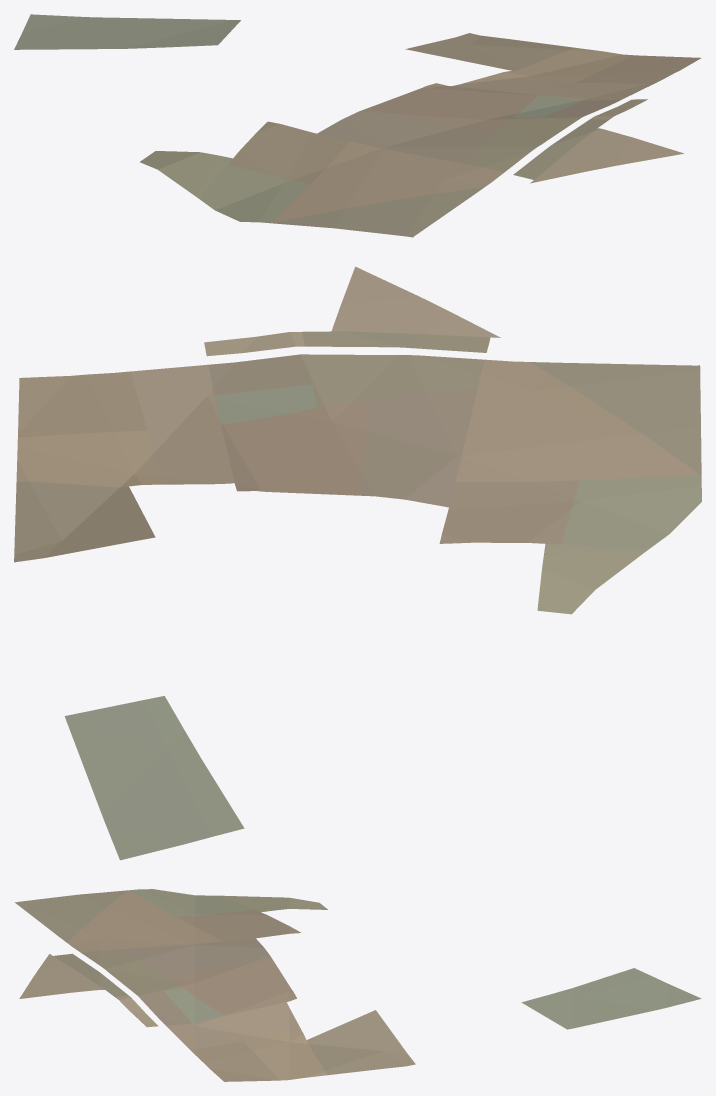
File: farm_-10_5_soil.glb
The picture shows the model from 3 angles, top to bottom: view 1: azimuth 30°, elevation 25°; view 2: azimuth 150°, elevation 25°; view 3: azimuth 270°, elevation 25°; orthographic projection. The views are drawn at different scales.
Parts seen in each view (by area): view 1: geometry_0; view 2: geometry_0; view 3: geometry_0.
Part boxes in pixels (bbox=[...]): geometry_0: bbox=[14, 14, 701, 237]; geometry_0: bbox=[14, 266, 701, 860]; geometry_0: bbox=[14, 889, 701, 1081].
Bounding box in the file's own units: 400 × 85.4 × 583.
